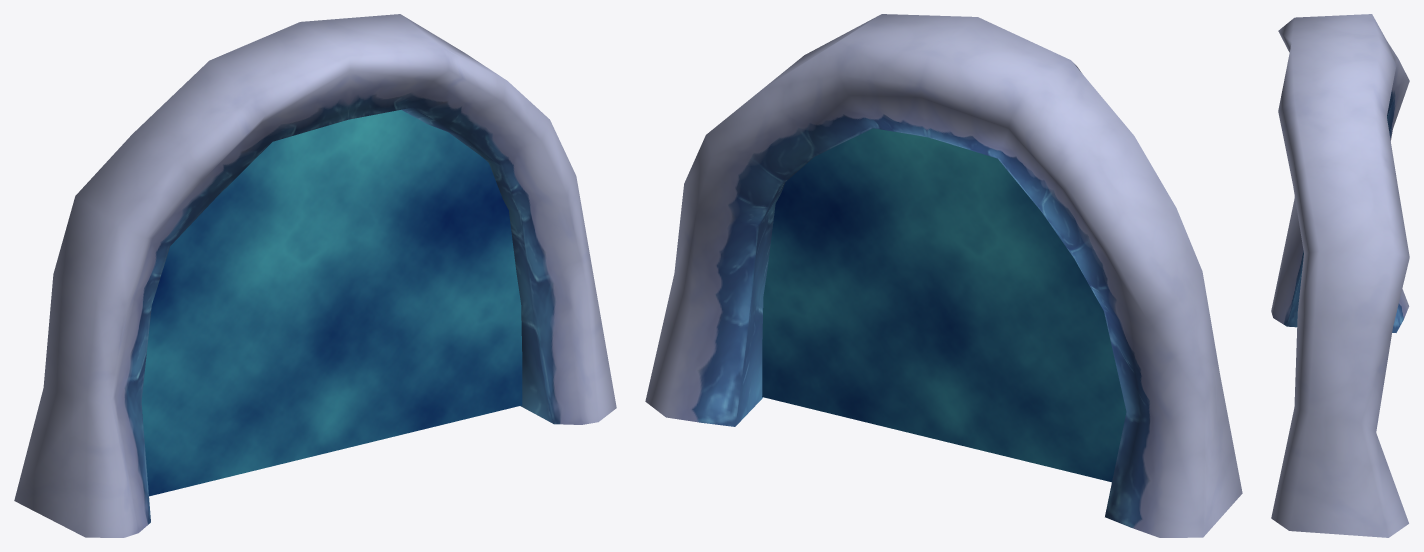
File: ice_portal_01.fbx
3 views of the same model, side by side, from view 1: azimuth 30°, elevation 25°; view 2: azimuth 150°, elevation 25°; view 3: azimuth 270°, elevation 25° (orthographic). The views are drawn at different scales.
Parts seen in each view (by area): view 1: portal_plane_01, ice_portal; view 2: ice_portal, portal_plane_01; view 3: ice_portal.
Part boxes in pixels (x1,y1,x2,y2): portal_plane_01: [141, 110, 522, 496]; ice_portal: [14, 14, 616, 537]; ice_portal: [645, 14, 1242, 537]; portal_plane_01: [762, 128, 1126, 482]; ice_portal: [1271, 14, 1409, 537].
Bounding box in the file's own units: 4 × 2.83 × 0.9538.
